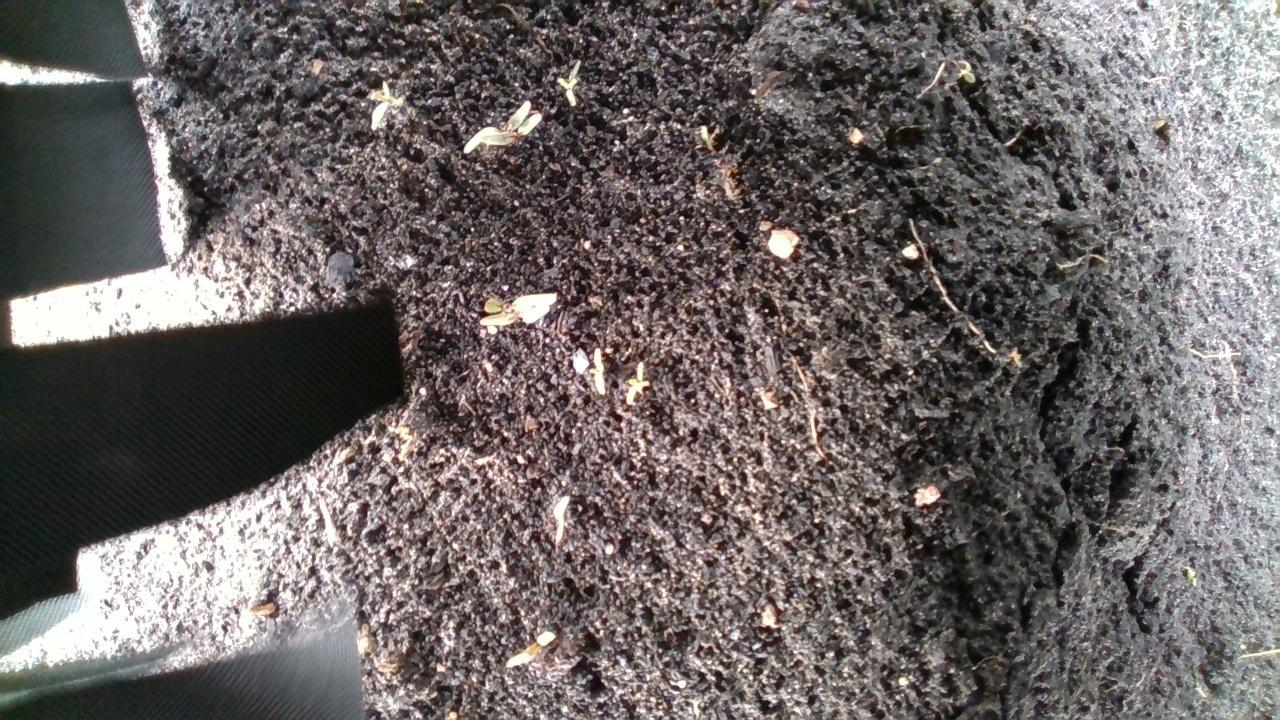weed: (352, 77, 397, 132)
